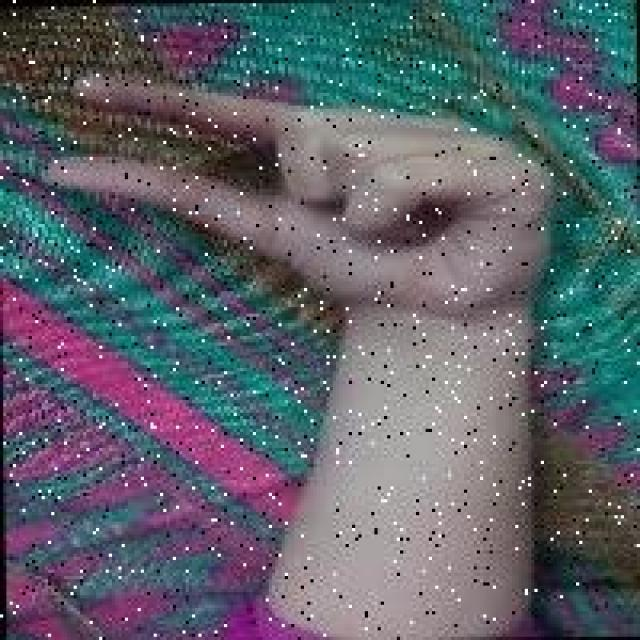G: (37, 61, 555, 310)
